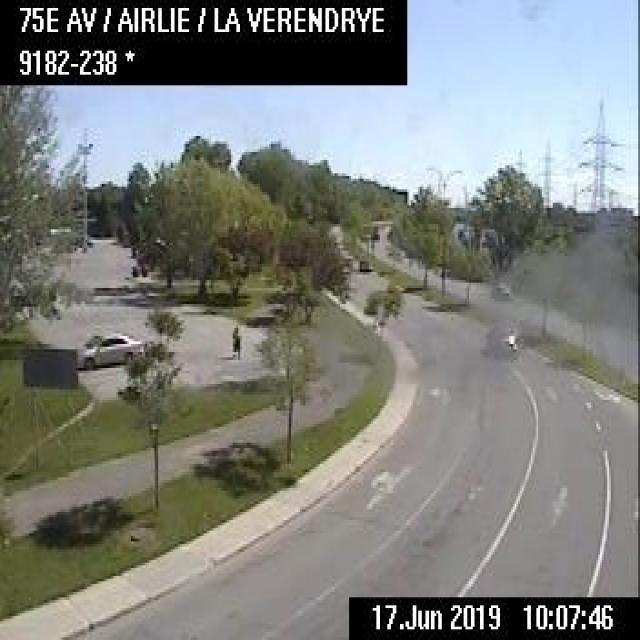pedestrian: (229, 319, 241, 361)
vehicle: (75, 329, 141, 366), (487, 317, 525, 360), (489, 280, 511, 301), (356, 255, 372, 273)
